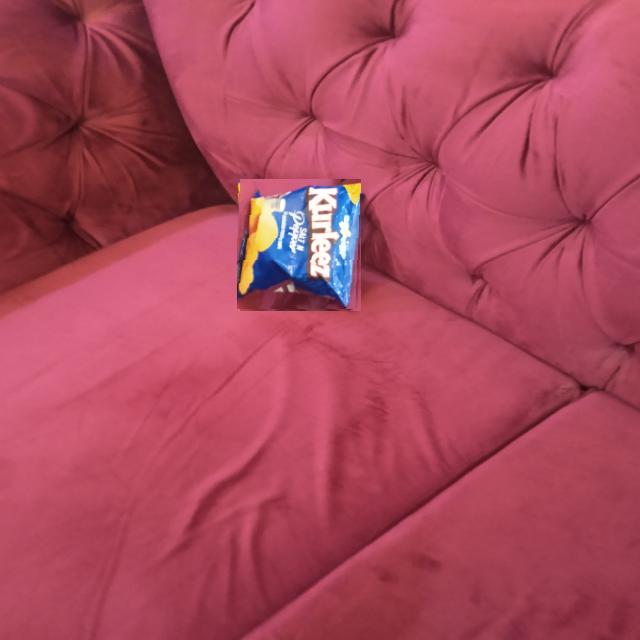Plastic: (237, 181, 363, 309)
